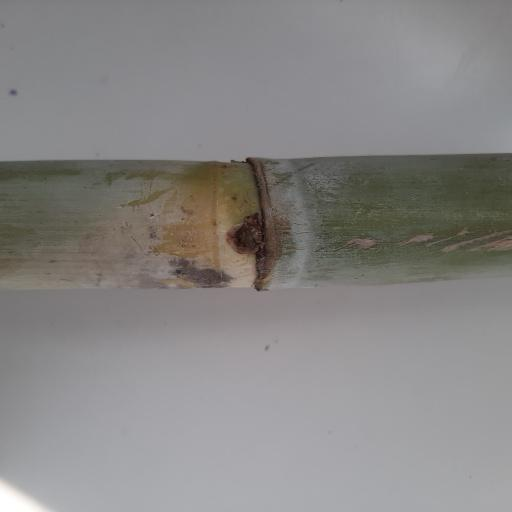Bud: (234, 222, 263, 251)
